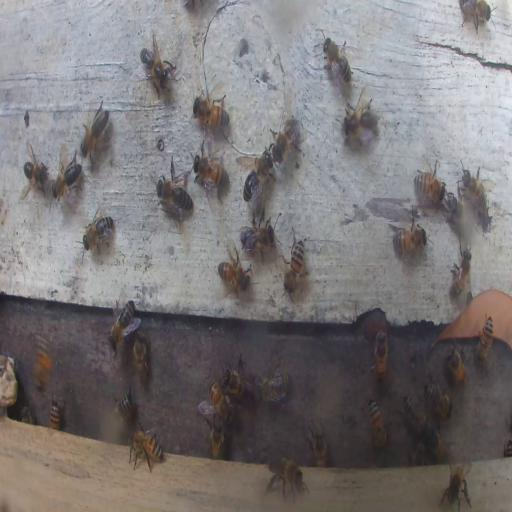nonpollenbee: (156, 156, 192, 225), (139, 35, 177, 95), (264, 455, 310, 502), (342, 90, 378, 148), (458, 160, 489, 220), (81, 100, 110, 164), (50, 149, 81, 207), (22, 141, 50, 203), (440, 460, 474, 511), (270, 110, 301, 165), (320, 34, 352, 86), (128, 426, 162, 474), (107, 298, 137, 352), (192, 151, 228, 193), (218, 251, 251, 294), (82, 210, 115, 253), (283, 230, 305, 294), (390, 217, 426, 255), (240, 219, 273, 259), (246, 146, 276, 188), (413, 167, 446, 203), (244, 160, 267, 211), (367, 397, 389, 450), (424, 379, 453, 419), (257, 365, 290, 400), (459, 0, 494, 33), (401, 392, 427, 436), (222, 363, 253, 399), (451, 245, 472, 298), (426, 425, 455, 462), (448, 193, 472, 236), (209, 379, 233, 420), (308, 421, 328, 467), (444, 347, 468, 384), (372, 329, 388, 384), (194, 101, 230, 125), (476, 315, 494, 362), (133, 332, 148, 387), (114, 387, 132, 421), (208, 420, 224, 457), (48, 398, 62, 430), (20, 406, 34, 424), (414, 441, 425, 462)
pollenbee: (32, 334, 53, 394)
